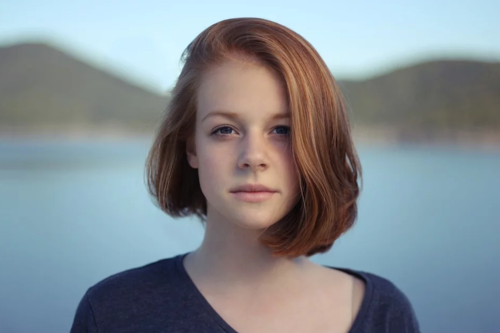no_mask: (192, 49, 306, 226)
